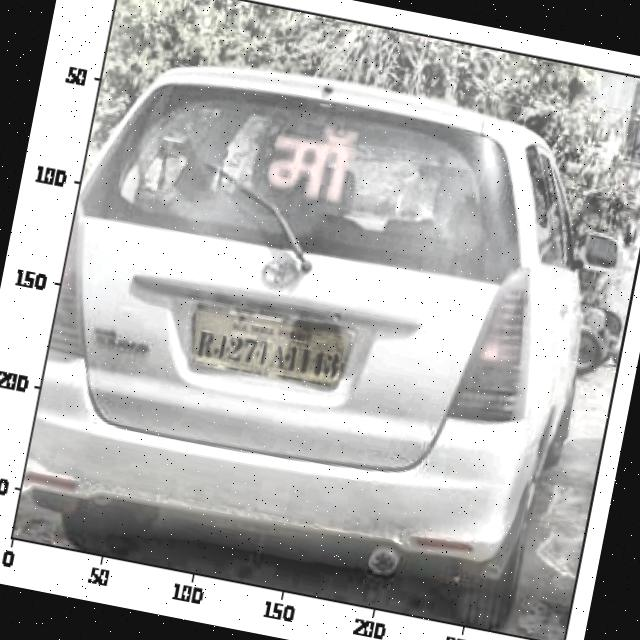license_plate: (190, 321, 349, 392)
